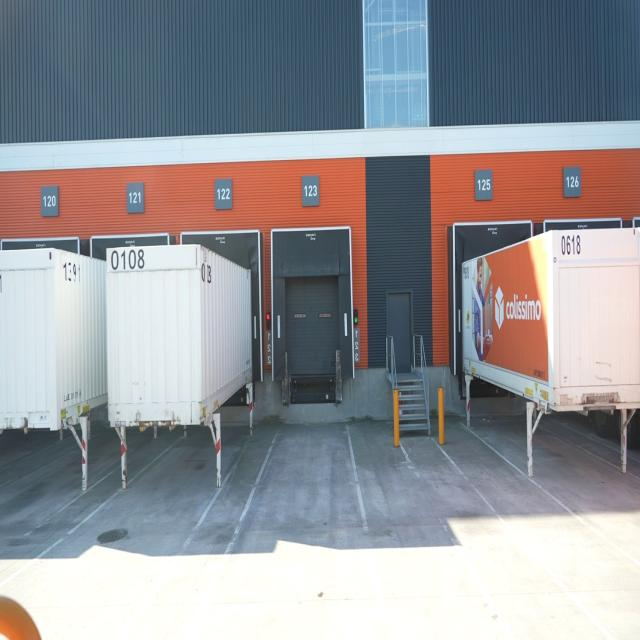Code: (109, 244, 146, 274), (558, 230, 583, 260)
